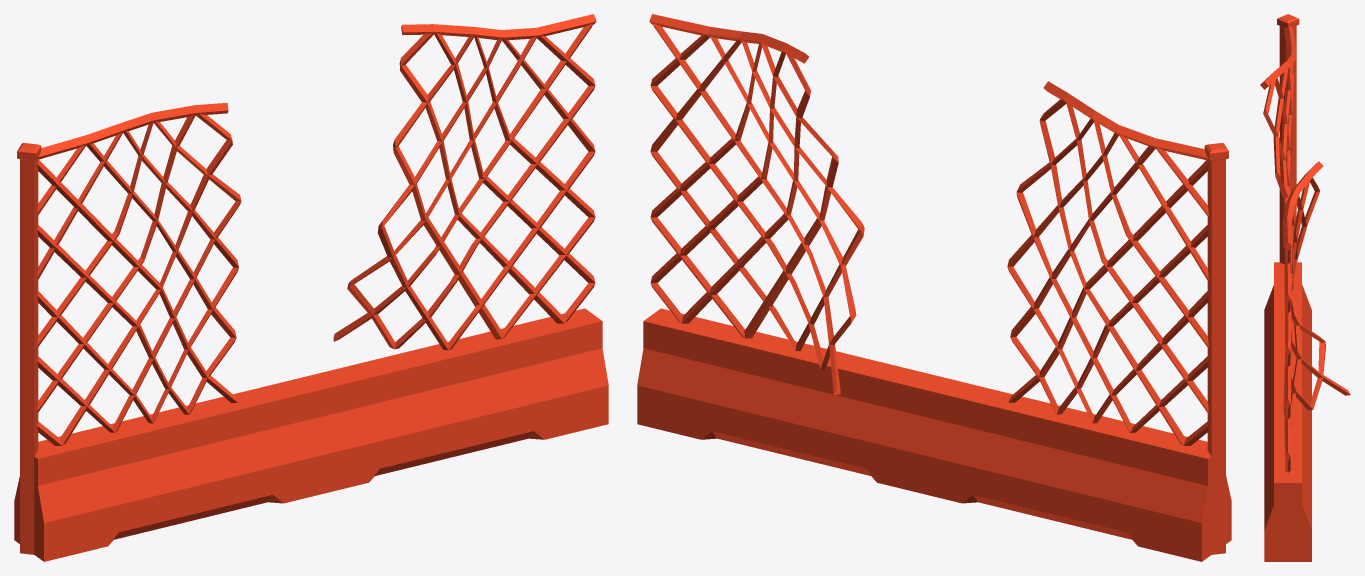
The model's file is SM_Fence_Construction_Broken_Low_3m_City.fbx.
3 renders of one model, left to right at view 1: azimuth 30°, elevation 25°; view 2: azimuth 150°, elevation 25°; view 3: azimuth 270°, elevation 25°, orthographic. The views are drawn at different scales.
Parts seen in each view (by area): view 1: SM_Fence_Construction_Broken_Low_3m_City; view 2: SM_Fence_Construction_Broken_Low_3m_City; view 3: SM_Fence_Construction_Broken_Low_3m_City.
Part boxes in pixels (x1,y1,x2,y2): SM_Fence_Construction_Broken_Low_3m_City: [14, 14, 608, 561]; SM_Fence_Construction_Broken_Low_3m_City: [637, 14, 1231, 561]; SM_Fence_Construction_Broken_Low_3m_City: [1260, 14, 1350, 561].
Size of the model in its own units: 3.06 by 2.11 by 0.5223.
